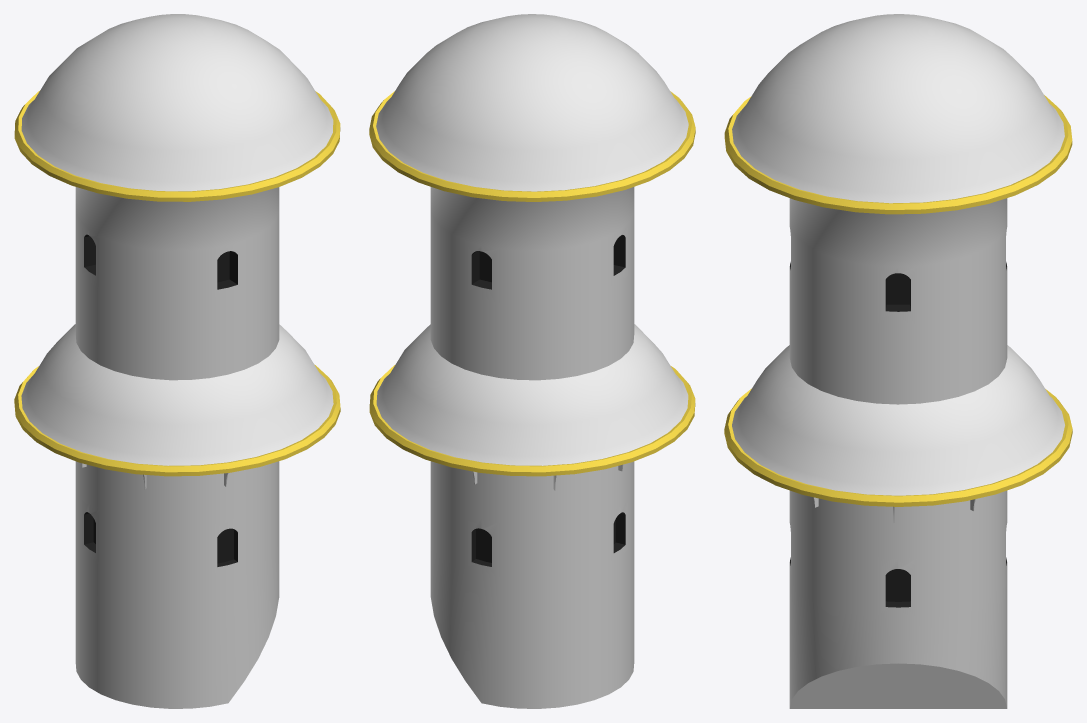
File: tower extension_01.fbx
3 renders of one model, left to right at view 1: azimuth 30°, elevation 25°; view 2: azimuth 150°, elevation 25°; view 3: azimuth 270°, elevation 25°, orthographic. The views are drawn at different scales.
Visible parts, largest first — view 1: tower extension_01.0; view 2: tower extension_01.0; view 3: tower extension_01.0.
Boxes of the visible parts, x1,y1,x2,y2 form: tower extension_01.0: (14,14,340,708); tower extension_01.0: (369,14,695,708); tower extension_01.0: (724,14,1072,708).
Size of the model in its own units: 47.48 by 102 by 47.48.
